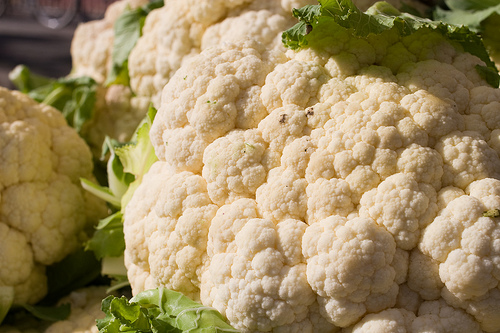cauliflower: (120, 2, 499, 332), (1, 87, 106, 321), (40, 286, 135, 332)
